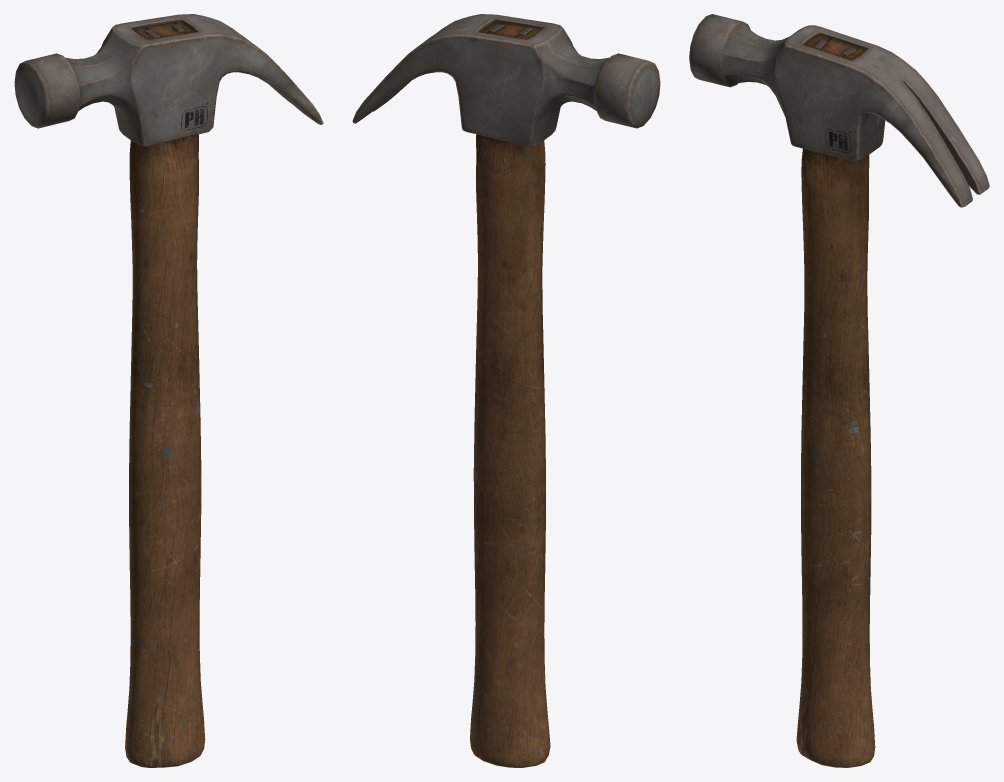
File: wooden_hammer_01.gltf
3 views of the same model, side by side, from view 1: azimuth 30°, elevation 25°; view 2: azimuth 150°, elevation 25°; view 3: azimuth 330°, elevation 25° (orthographic). The views are drawn at different scales.
Parts seen in each view (by area): view 1: wooden_hammer_01__x; view 2: wooden_hammer_01__x; view 3: wooden_hammer_01__x.
Part boxes in pixels (left/top/right/bottom): wooden_hammer_01__x: left=14, top=14, right=323, bottom=767; wooden_hammer_01__x: left=352, top=14, right=660, bottom=767; wooden_hammer_01__x: left=689, top=14, right=989, bottom=767.
Size of the model in its own units: 0.1118 by 0.2792 by 0.0234.
1 material, 1 textured.
